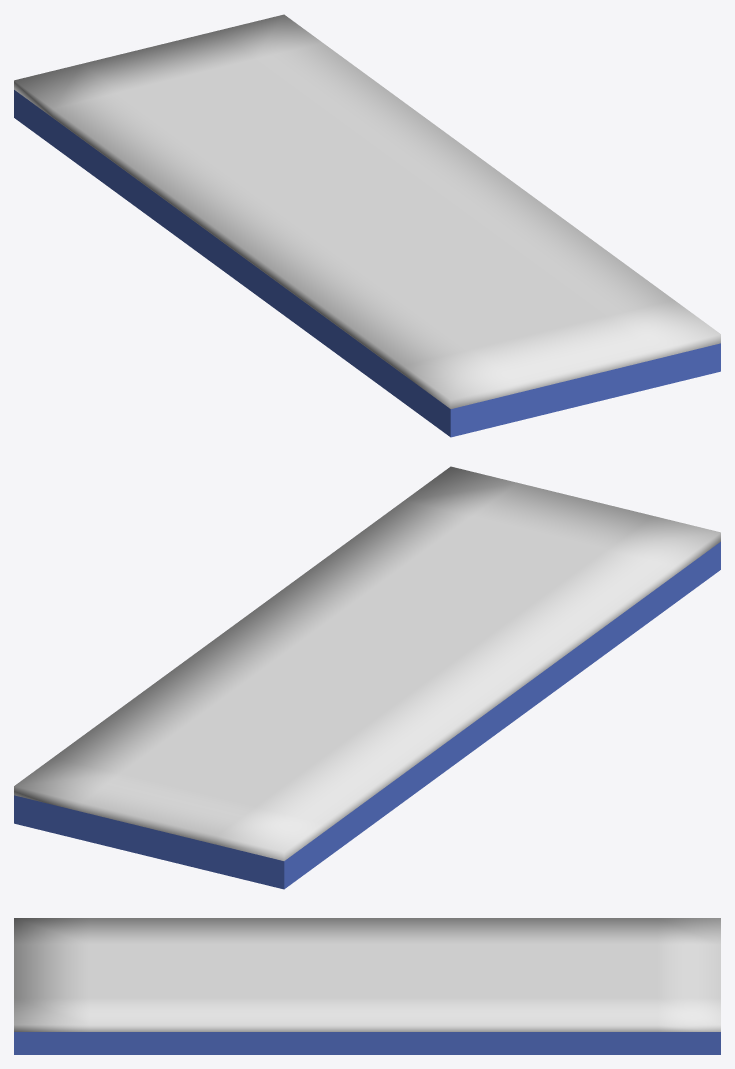
File: Kasur atas.glb
3 renders of one model, top to bottom at view 1: azimuth 30°, elevation 25°; view 2: azimuth 150°, elevation 25°; view 3: azimuth 270°, elevation 25°, orthographic. The views are drawn at different scales.
Visible parts, largest first — view 1: bedtop_0; view 2: bedtop_0; view 3: bedtop_0.
Boxes of the visible parts, box(x1,y1,x2,y2) form: bedtop_0: box(14, 14, 720, 437); bedtop_0: box(14, 466, 720, 889); bedtop_0: box(14, 918, 720, 1054).
Bounding box in the file's own units: 1 × 0.1323 × 2.8.
